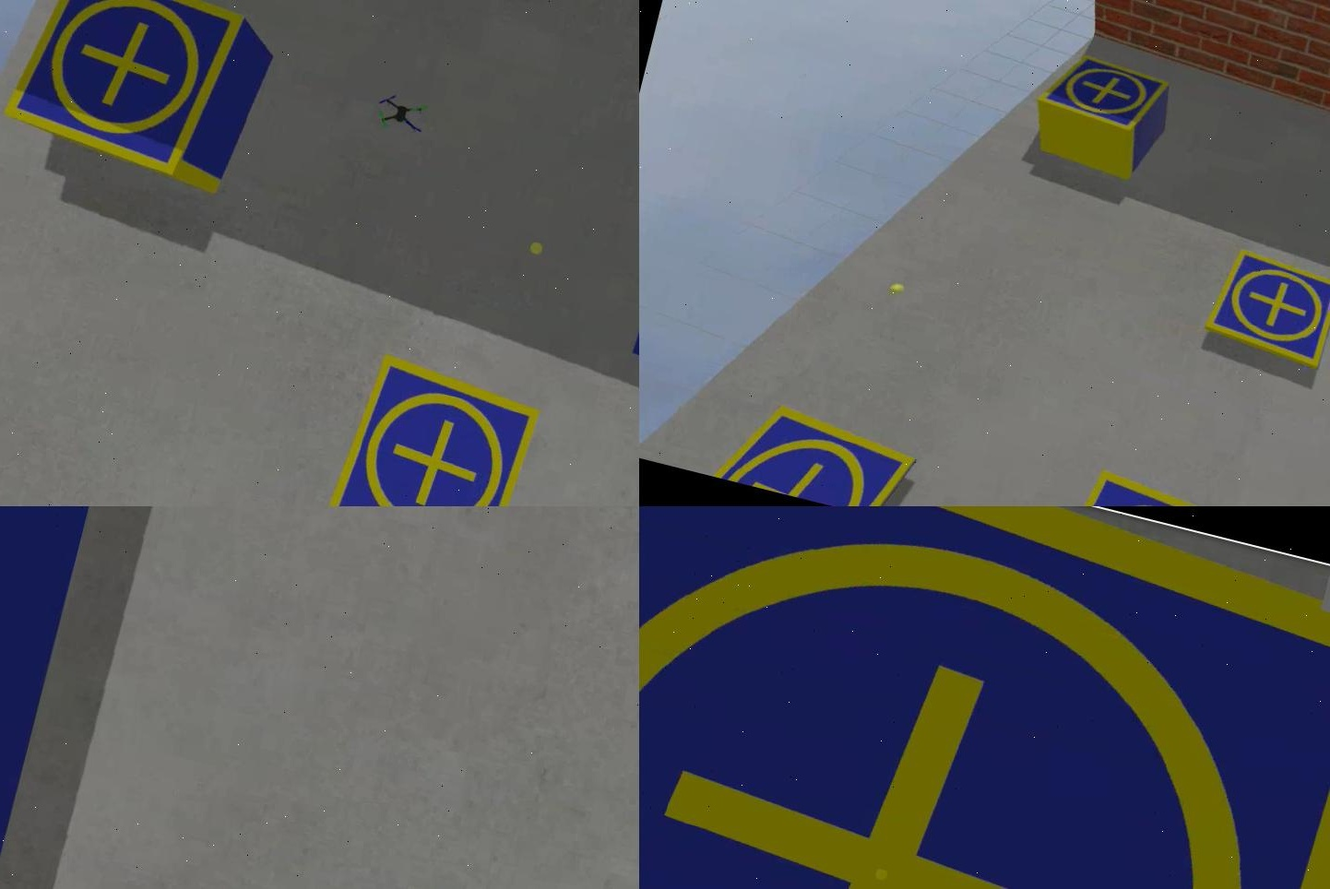small_base: (637, 506, 1328, 889), (0, 1, 247, 189), (318, 345, 543, 506), (710, 391, 920, 506), (1197, 242, 1328, 373), (1029, 50, 1165, 141), (1055, 464, 1245, 506)
